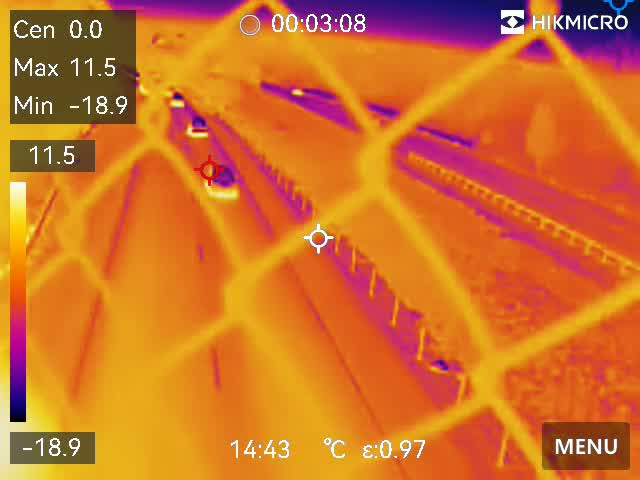vehicle: (205, 162, 240, 199), (184, 117, 211, 139), (168, 95, 186, 108), (291, 86, 309, 96)
